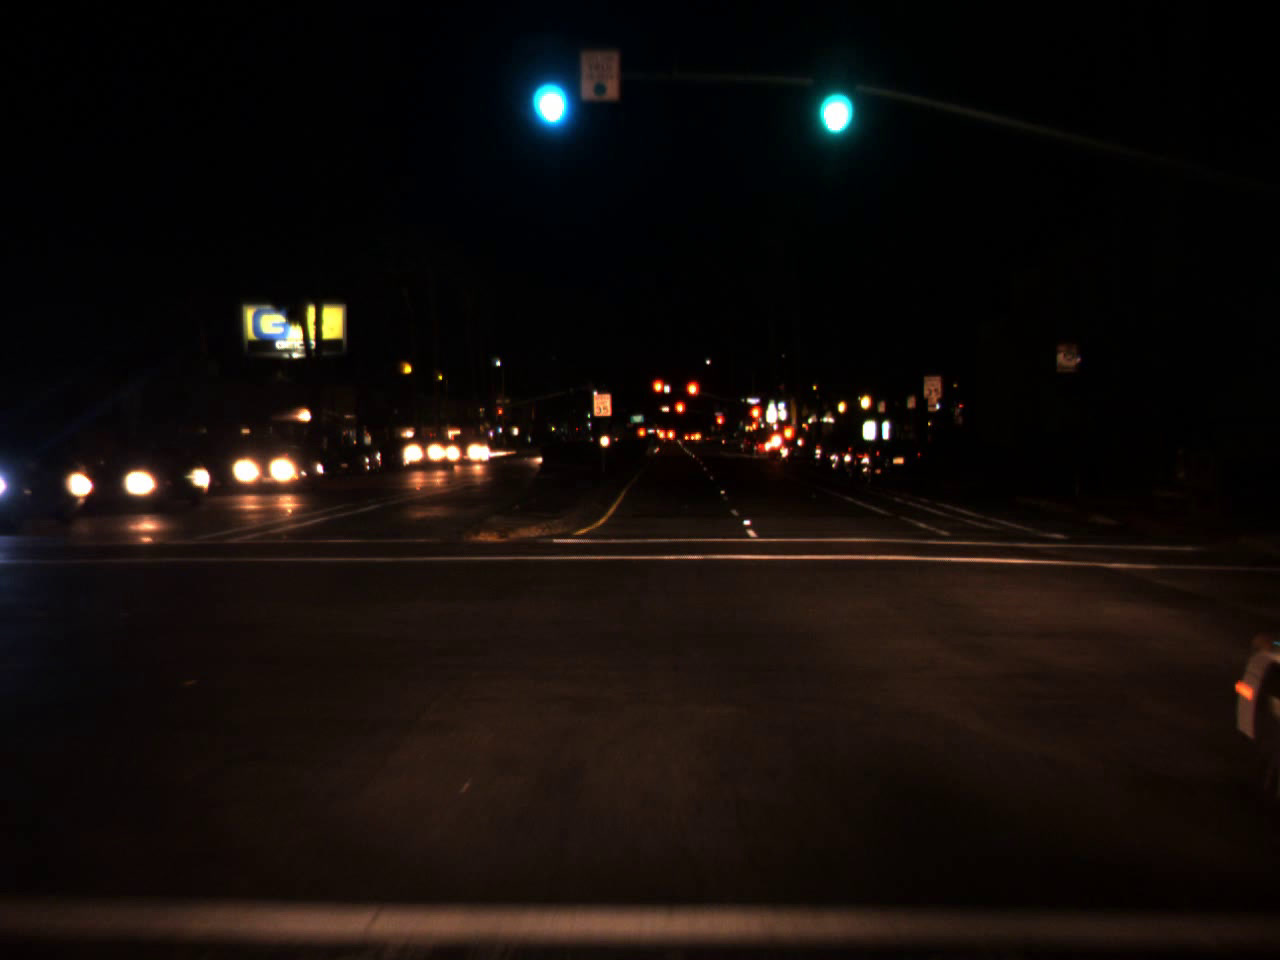go: (810, 57, 855, 144), (528, 53, 571, 134)
stop: (651, 377, 666, 409), (684, 380, 700, 409), (748, 403, 761, 438), (672, 399, 687, 426), (715, 414, 725, 435), (497, 409, 503, 419)
